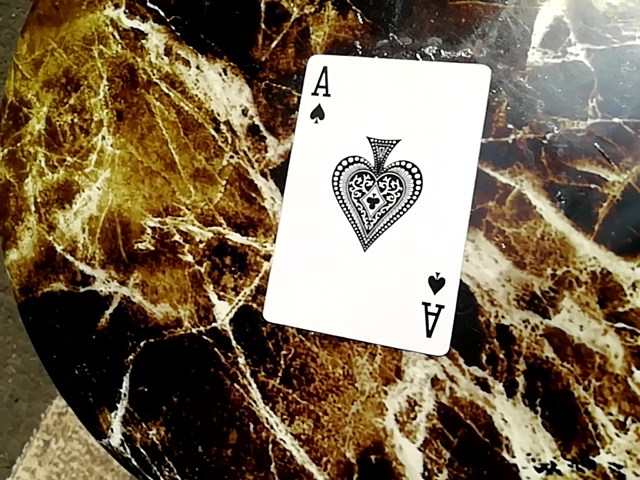ht a: (257, 51, 489, 358)
